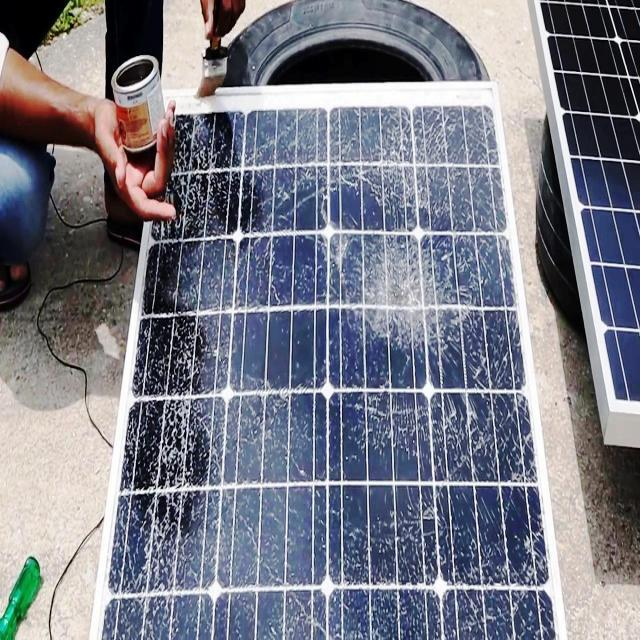faulty: (100, 83, 560, 636)
no faulty: (535, 4, 640, 407)
